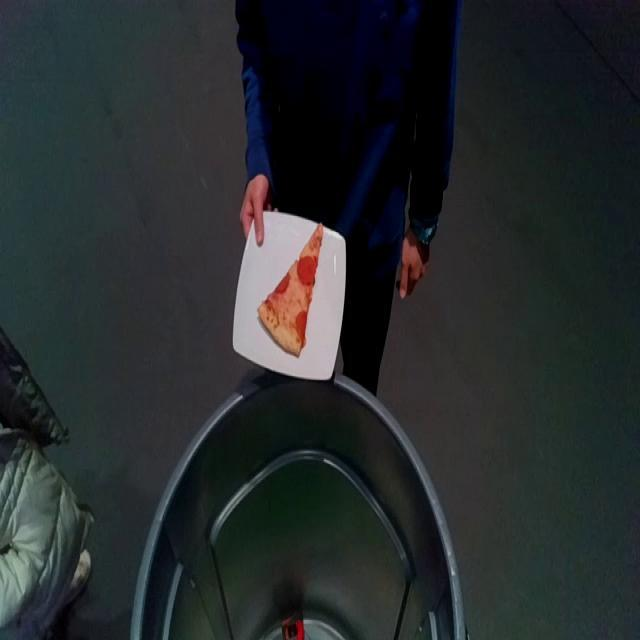Anorganik: (229, 206, 348, 383)
Organik: (255, 220, 323, 352)
